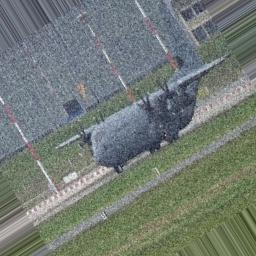Airplane: (52, 50, 232, 173)
